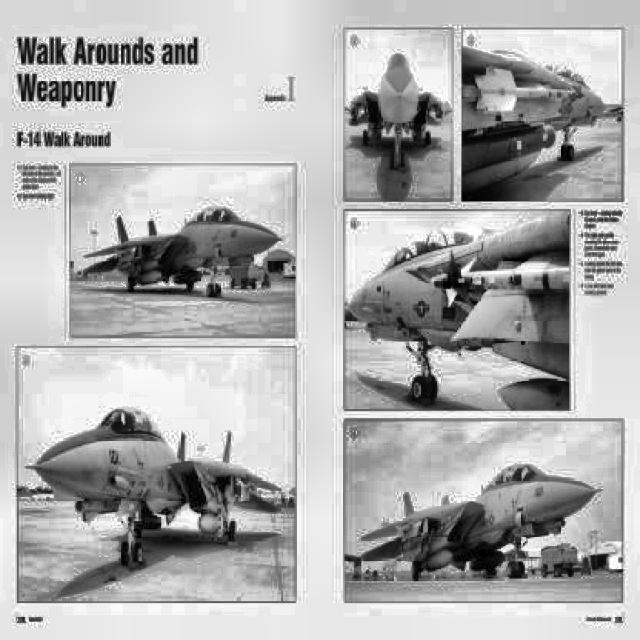F14: (345, 210, 570, 410), (26, 406, 282, 566), (360, 464, 602, 581), (462, 44, 606, 196), (82, 206, 284, 299), (345, 54, 452, 171)
